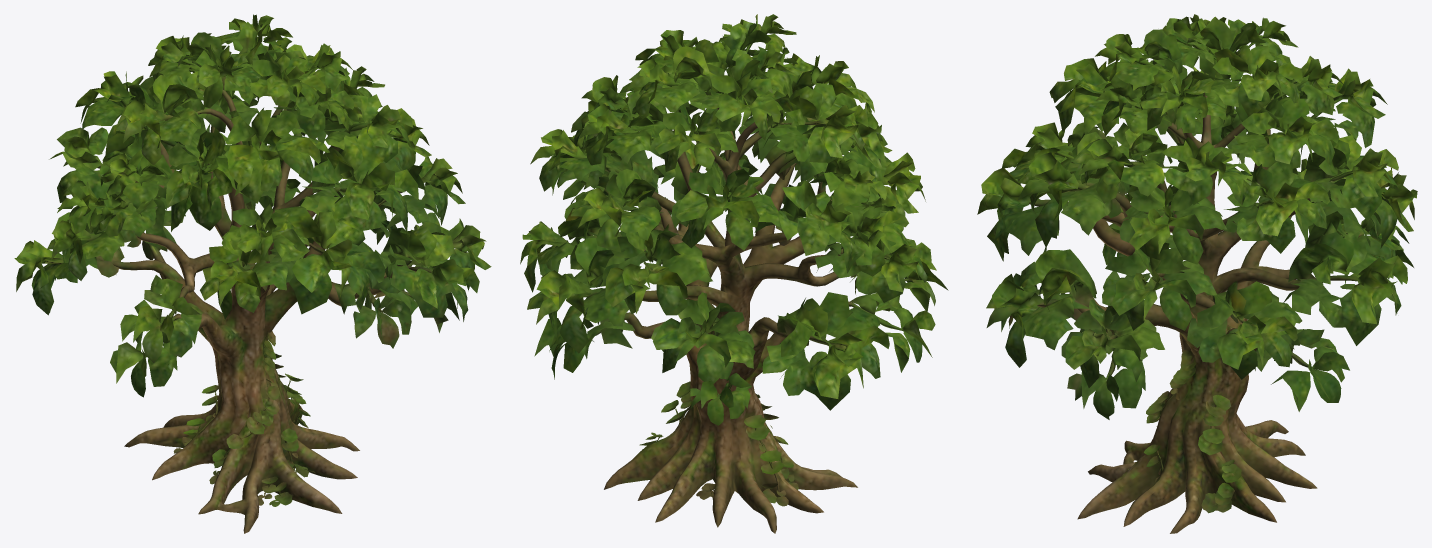
The model's file is 01_Pohon_Rindang_Besar.glb.
3 views of the same model, side by side, from view 1: azimuth 30°, elevation 25°; view 2: azimuth 150°, elevation 25°; view 3: azimuth 270°, elevation 25° (orthographic). The views are drawn at different scales.
Parts seen in each view (by area): view 1: 01_Pohon_Rindang_Besar; view 2: 01_Pohon_Rindang_Besar; view 3: 01_Pohon_Rindang_Besar.
Part boxes in pixels (x1,y1,x2,y2): 01_Pohon_Rindang_Besar: (14,14,491,533); 01_Pohon_Rindang_Besar: (520,14,948,533); 01_Pohon_Rindang_Besar: (977,14,1417,533).
Bounding box in the file's own units: 3.92 × 4.4 × 3.72.
Materials: 1 (1 with a texture image).
